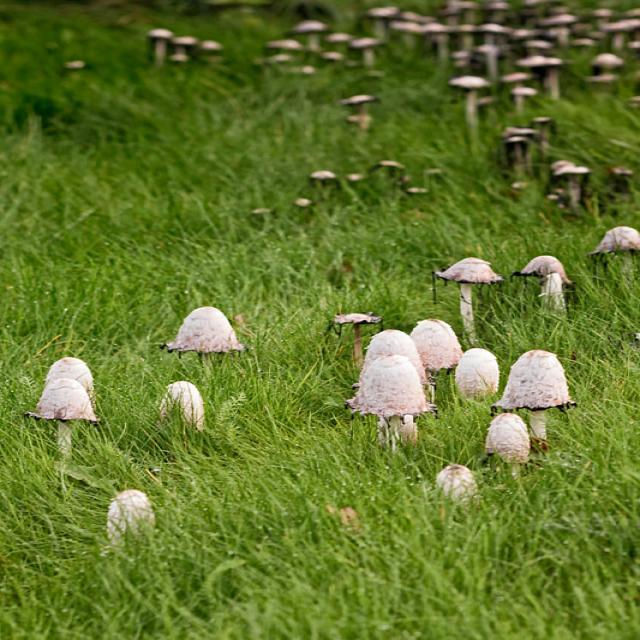Coprinus comatus: (501, 349, 590, 449), (351, 356, 425, 441), (33, 378, 100, 461), (169, 303, 233, 374), (469, 407, 536, 470), (95, 484, 158, 547), (441, 258, 494, 329), (517, 256, 573, 313), (453, 348, 504, 407), (413, 319, 459, 384), (151, 380, 203, 436), (425, 460, 475, 501), (592, 223, 640, 263)
